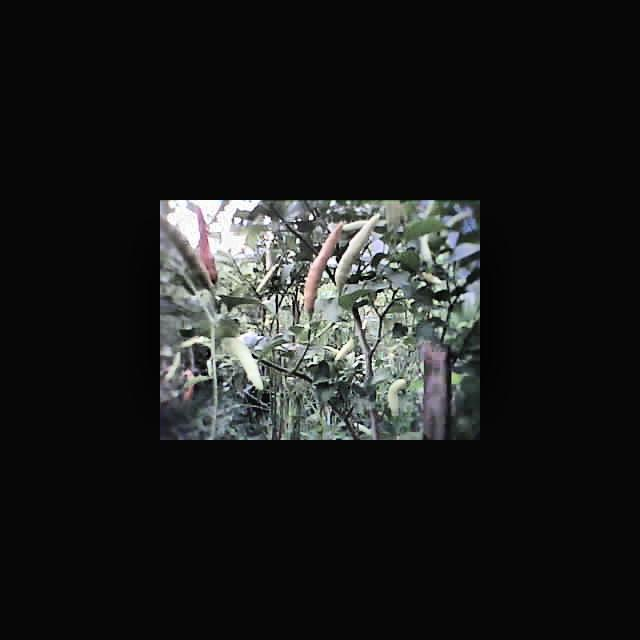Cabai: (301, 223, 332, 317), (190, 210, 231, 277)
